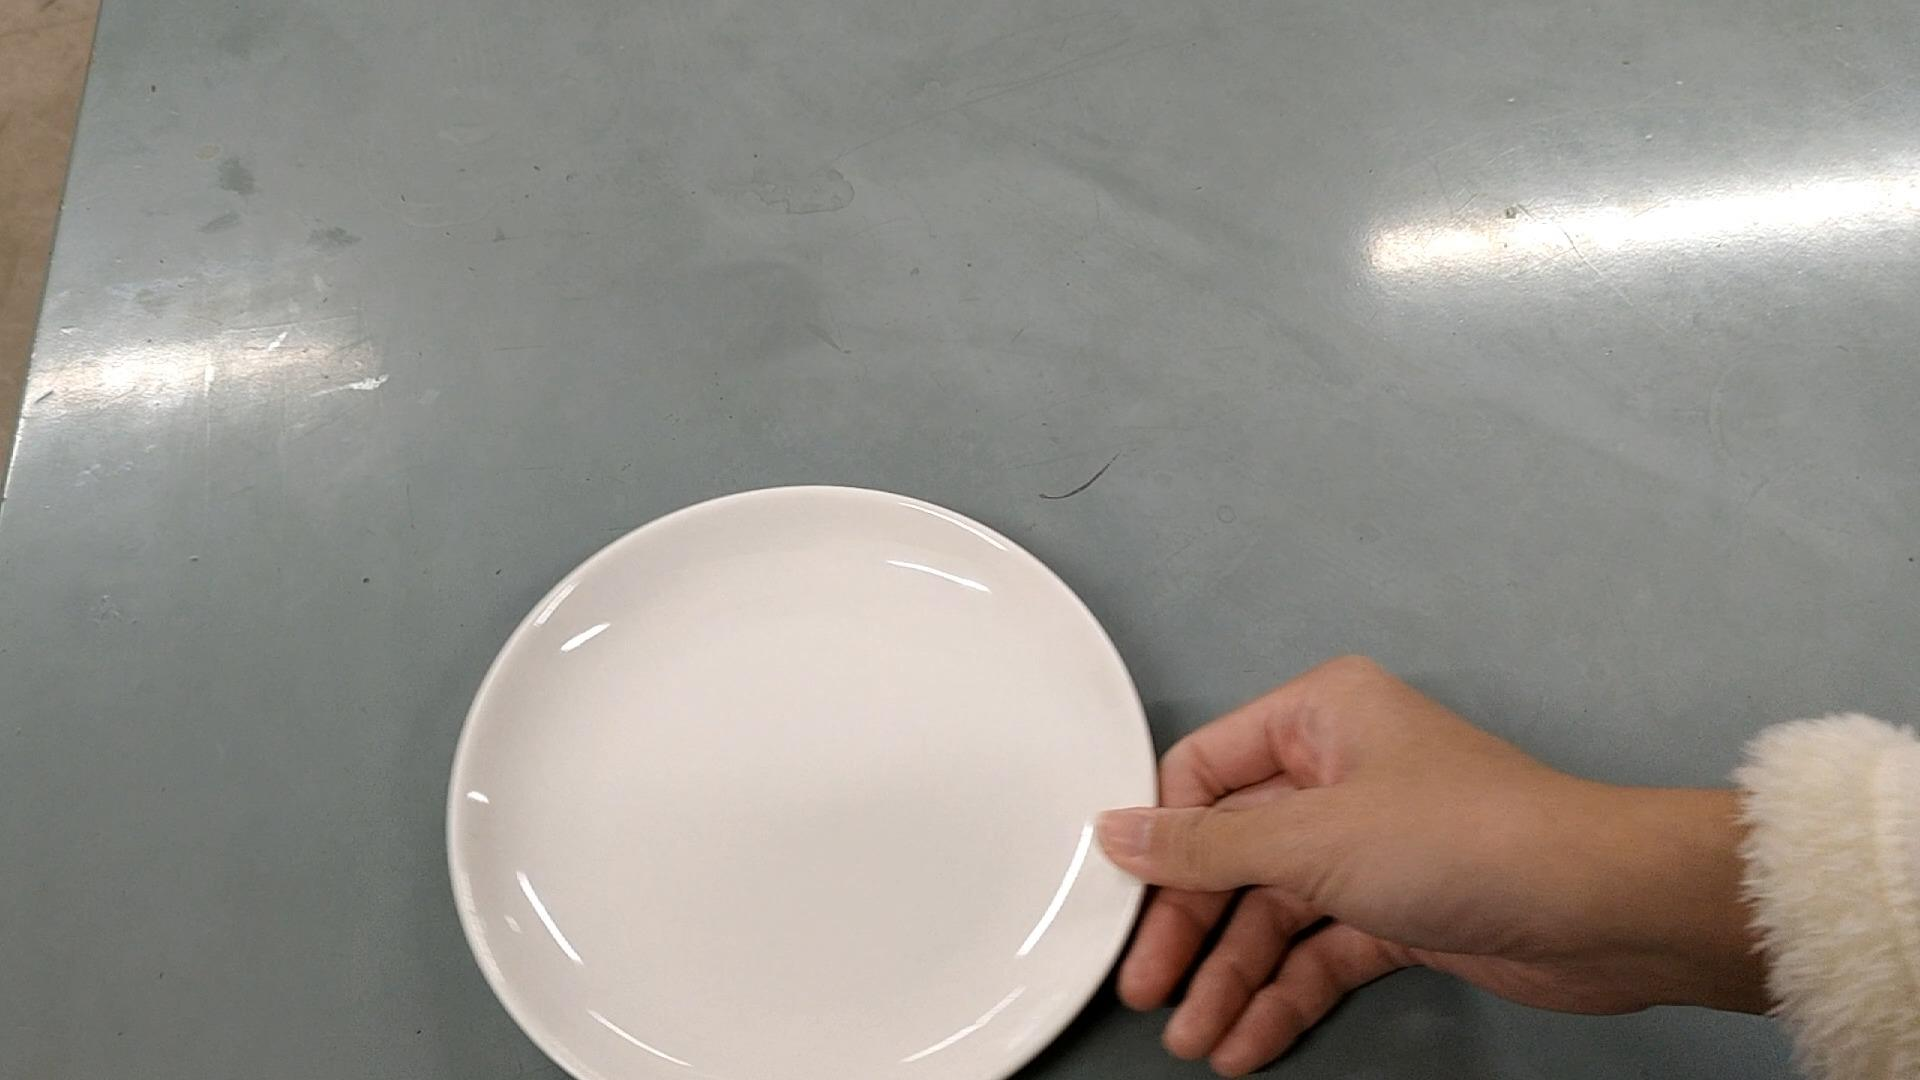plate: (454, 480, 1162, 1080)
